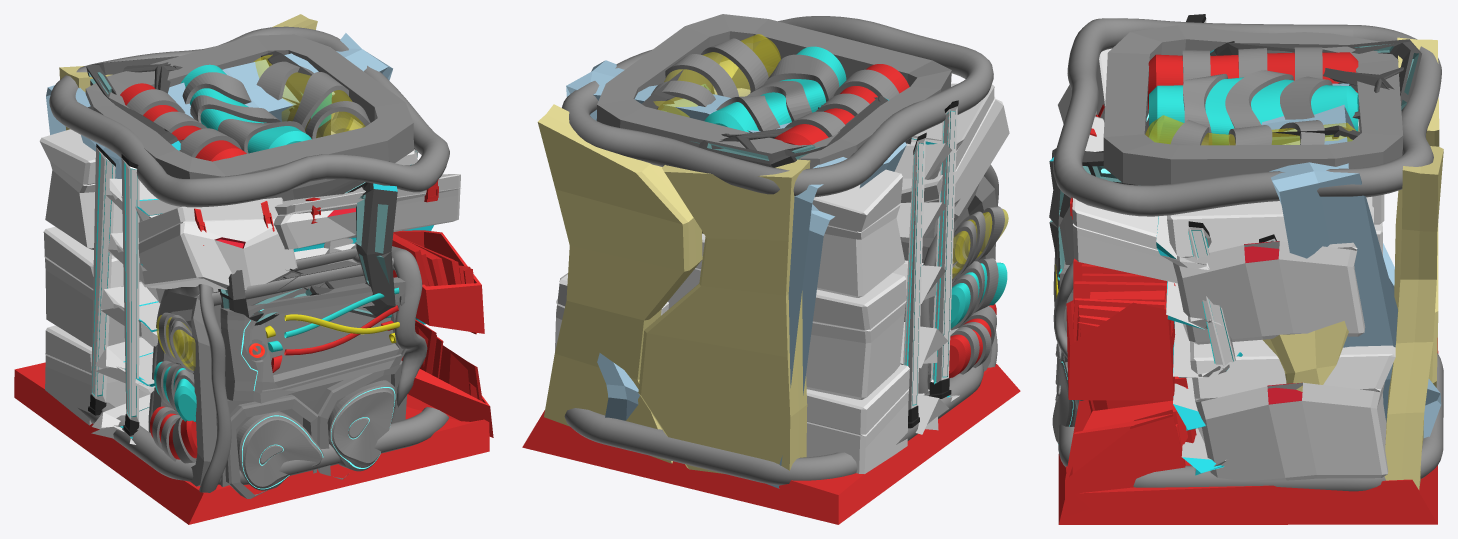
File: trashbox_2.fbx
3 views of the same model, side by side, from view 1: azimuth 30°, elevation 25°; view 2: azimuth 150°, elevation 25°; view 3: azimuth 270°, elevation 25° (orthographic). The views are drawn at different scales.
Visible parts, largest first — view 1: red wire; view 2: red wire; view 3: red wire.
Part boxes in pixels (x1,y1,x2,y2): red wire: (14,14,493,524); red wire: (522,14,1020,524); red wire: (1049,14,1443,524).
Bounding box in the file's own units: 272 × 275 × 264.
